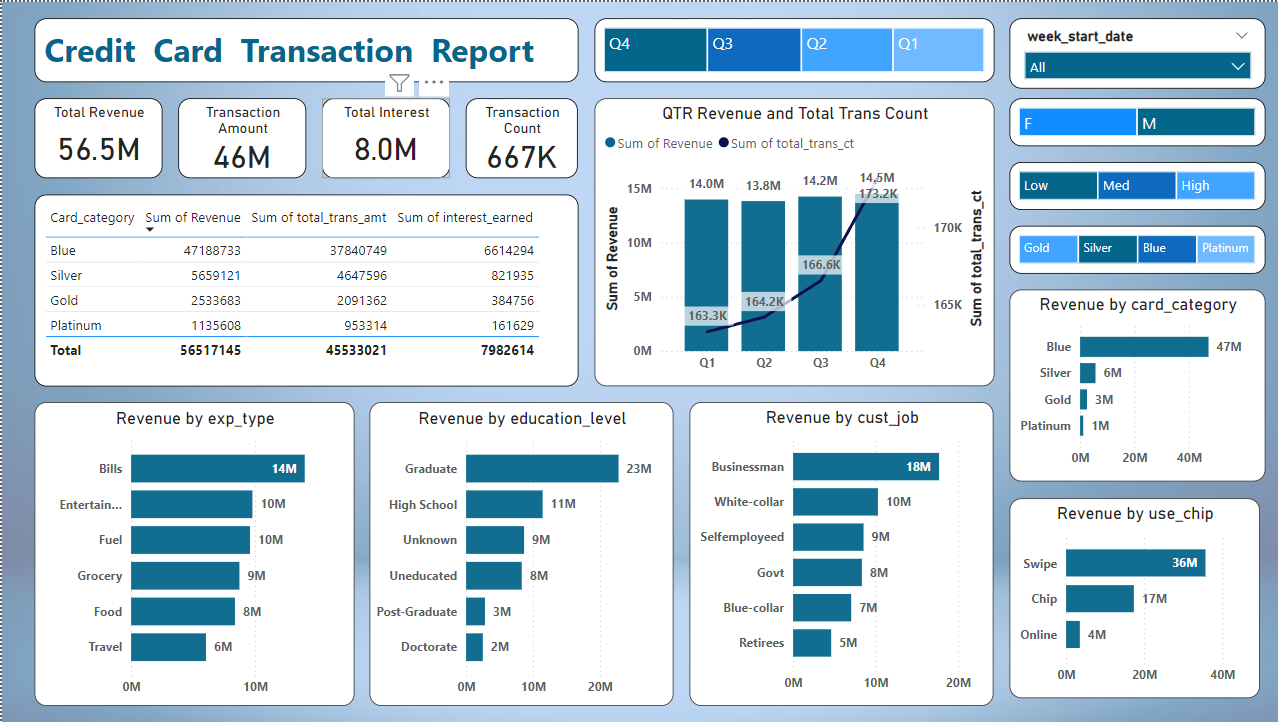

This screenshot's page, from the dashboard's own definition file:
{"tool":"powerbi","page":{"name":"CC_Transaction ","canvas":[1280,720],"ordinal":1},"visuals":[{"type":"textbox","box":[32,16,544,64],"z":0},{"type":"lineStackedColumnComboChart","title":"QTR Revenue and Total Trans Count","fields":{"Category":["public cc_detail.qtr"],"Y":["Sum(public cc_detail.Revenue)"],"Y2":["Sum(public cc_detail.total_trans_ct)"]},"box":[592,96,400,288],"z":1000},{"type":"barChart","title":"Revenue by exp_type","fields":{"Y":["Sum(public cc_detail.Revenue)"],"Category":["public cc_detail.exp_type"]},"box":[32,400,320,304],"z":2000},{"type":"barChart","title":"Revenue by education_level","fields":{"Y":["Sum(public cc_detail.Revenue)"],"Category":["public cust_detail.education_level"]},"box":[368,400,304,304],"z":3000},{"type":"barChart","title":"Revenue by cust_job","fields":{"Y":["Sum(public cc_detail.Revenue)"],"Category":["public cust_detail.customer_job"]},"box":[688,400,304,304],"z":4000},{"type":"barChart","title":"Revenue by card_category","fields":{"Y":["Sum(public cc_detail.Revenue)"],"Category":["public cc_detail.card_category"]},"box":[1008,288,256,192],"z":5000},{"type":"barChart","title":"Revenue by use_chip","fields":{"Y":["Sum(public cc_detail.Revenue)"],"Category":["public cc_detail.use_chip"]},"box":[1008,496,250,200],"z":6000},{"type":"tableEx","fields":{"Values":["public cc_detail.card_category","Sum(public cc_detail.Revenue)","Sum(public cc_detail.total_trans_amt)","Sum(public cc_detail.interest_earned)"]},"box":[32,192,544,192],"z":7000},{"type":"card","title":"Total Revenue","fields":{"Values":["Sum(public cc_detail.Revenue)"]},"box":[32,96,128,80],"z":8000},{"type":"card","title":"Transaction Amount","fields":{"Values":["Sum(public cc_detail.total_trans_amt)"]},"box":[176,96,128,80],"z":9000},{"type":"card","title":"Total Interest ","fields":{"Values":["Sum(public cc_detail.interest_earned)"]},"box":[320,96,128,80],"z":10000},{"type":"card","title":"Transaction Count","fields":{"Values":["Sum(public cc_detail.total_trans_ct)"]},"box":[464,96,112,80],"z":11000},{"type":"slicer","fields":{"Values":["public cc_detail.week_start_date"]},"box":[1008,16,256,70],"z":12000},{"type":"treemap","fields":{"Group":["public cc_detail.qtr"],"Values":["Avg(public cc_detail.client_num)"]},"box":[592,16,400,64],"z":13000},{"type":"treemap","fields":{"Values":["Avg(public cc_detail.client_num)"],"Group":["public cust_detail.gender"]},"box":[1008,96,256,48],"z":14000},{"type":"treemap","fields":{"Values":["Avg(public cc_detail.client_num)"],"Group":["public cc_detail.card_category"]},"box":[1008,224,256,48],"z":15000},{"type":"treemap","fields":{"Values":["Avg(public cc_detail.client_num)"],"Group":["public cust_detail.IncomeGroup"]},"box":[1008,160,256,48],"z":16000}]}

Visuals, with their boxes in screenshot pixels (x1, y1, x2, y2), scaled from the page's 1280x720 canvas onto the 1278x722 screenshot:
textbox: [32, 16, 575, 80]
"QTR Revenue and Total Trans Count" lineStackedColumnComboChart: [591, 96, 990, 385]
"Revenue by exp_type" barChart: [32, 401, 351, 706]
"Revenue by education_level" barChart: [367, 401, 671, 706]
"Revenue by cust_job" barChart: [687, 401, 990, 706]
"Revenue by card_category" barChart: [1006, 289, 1262, 481]
"Revenue by use_chip" barChart: [1006, 497, 1256, 698]
tableEx - public cc_detail.card_category x Sum(public cc_detail.Revenue): [32, 193, 575, 385]
"Total Revenue" card: [32, 96, 160, 176]
"Transaction Amount" card: [176, 96, 304, 176]
"Total Interest " card: [320, 96, 447, 176]
"Transaction Count" card: [463, 96, 575, 176]
slicer - public cc_detail.week_start_date: [1006, 16, 1262, 86]
treemap - public cc_detail.qtr x Avg(public cc_detail.client_num): [591, 16, 990, 80]
treemap - Avg(public cc_detail.client_num) x public cust_detail.gender: [1006, 96, 1262, 144]
treemap - Avg(public cc_detail.client_num) x public cc_detail.card_category: [1006, 225, 1262, 273]
treemap - Avg(public cc_detail.client_num) x public cust_detail.IncomeGroup: [1006, 160, 1262, 209]
